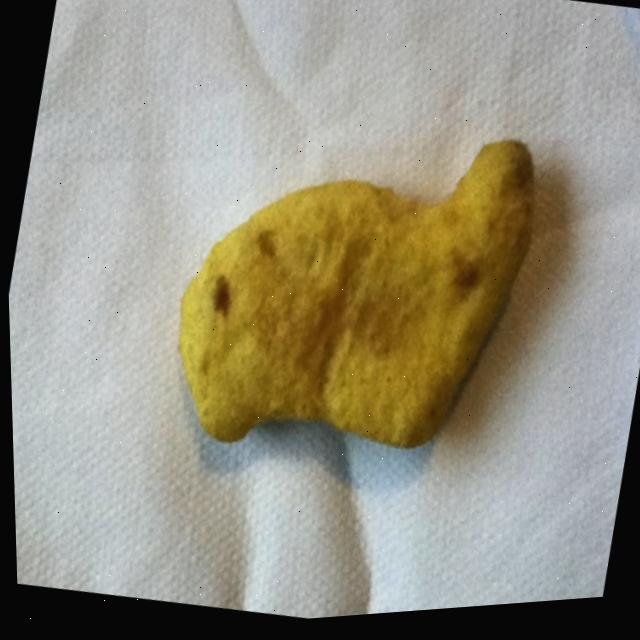鸡肉料理 含炸鸡: (134, 74, 567, 517)
